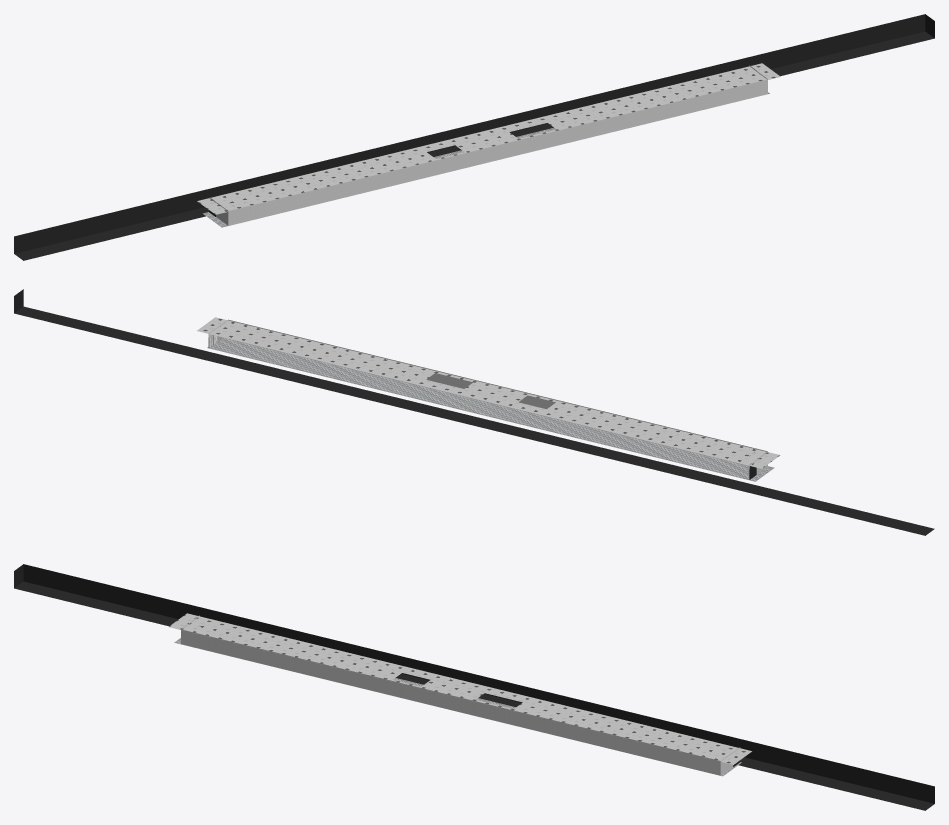
Rendered from platform_north_bound.fbx.
The picture shows the model from 3 angles, top to bottom: view 1: azimuth 30°, elevation 25°; view 2: azimuth 150°, elevation 25°; view 3: azimuth 330°, elevation 25°; orthographic projection.
Parts seen in each view (by area): view 1: tunnel_north_bound_geo, northbound_ceiling_geo, pCube65, polySurface23062; view 2: northbound_ceiling_geo, tunnel_north_bound_geo, polySurface23062, pCube65; view 3: tunnel_north_bound_geo, northbound_ceiling_geo, pCube65.
Part boxes in pixels (x1,y1,x2,y2): tunnel_north_bound_geo: (14, 14, 934, 260); northbound_ceiling_geo: (197, 63, 780, 214); pCube65: (216, 71, 767, 225); polySurface23062: (203, 92, 769, 227); northbound_ceiling_geo: (197, 317, 780, 468); tunnel_north_bound_geo: (14, 289, 934, 535); polySurface23062: (207, 337, 774, 481); pCube65: (216, 319, 767, 473); tunnel_north_bound_geo: (14, 564, 934, 810); northbound_ceiling_geo: (169, 613, 751, 764); pCube65: (181, 621, 732, 775).
Bounding box in the file's own units: 19002 × 365 × 1038.
